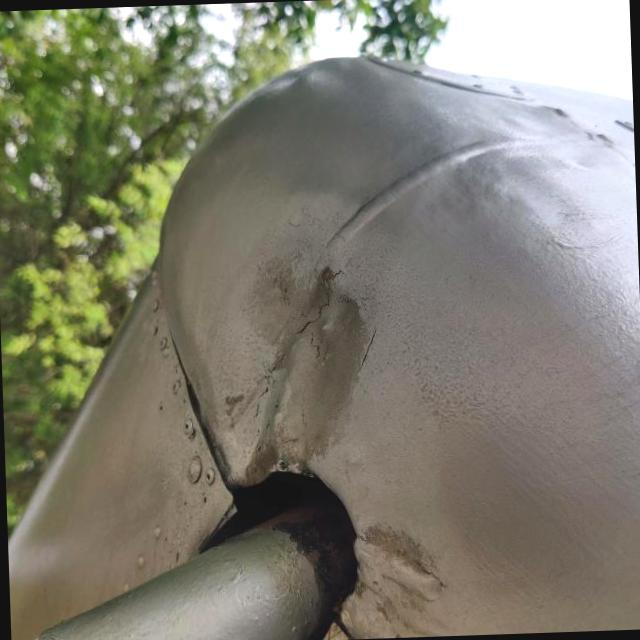dent: (148, 178, 412, 409), (18, 341, 136, 462)
